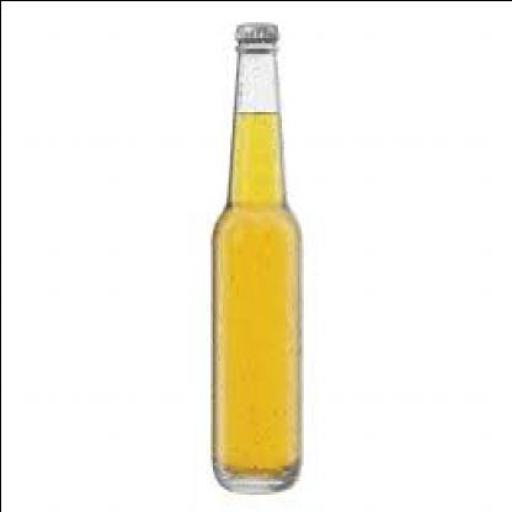glass: (207, 38, 301, 488)
metal: (233, 18, 273, 34)
